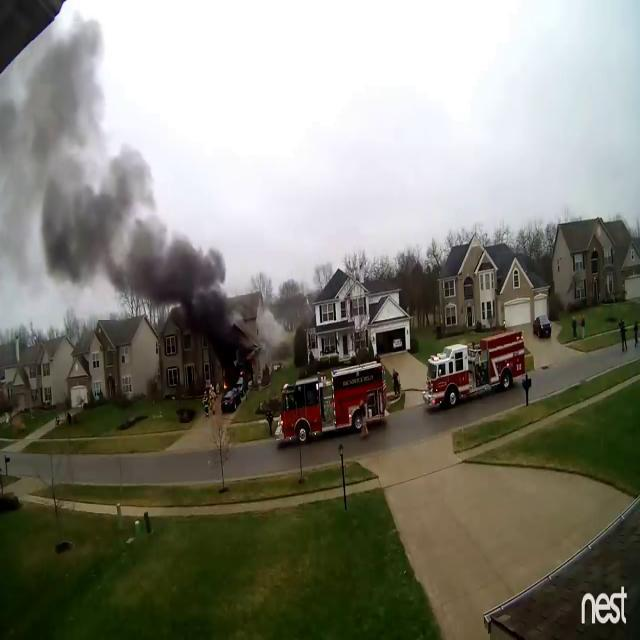Smoke: (1, 29, 160, 330), (137, 220, 242, 372), (254, 307, 285, 380)
